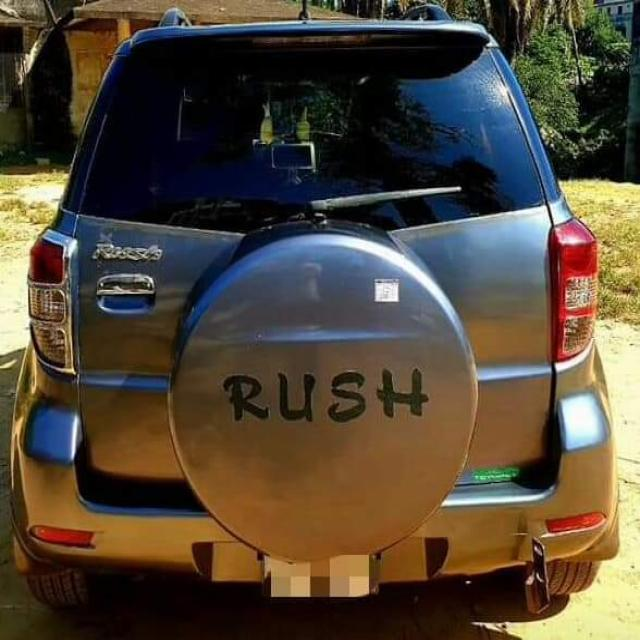silver: (25, 8, 610, 640)
